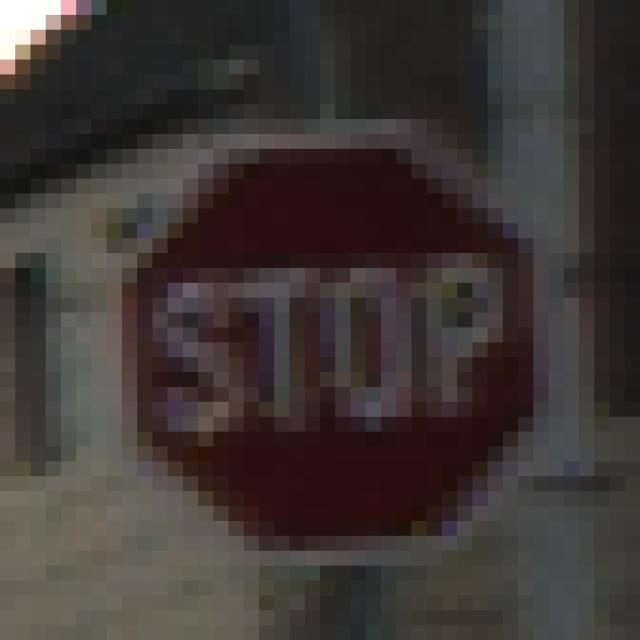STOP: (92, 75, 565, 552)
